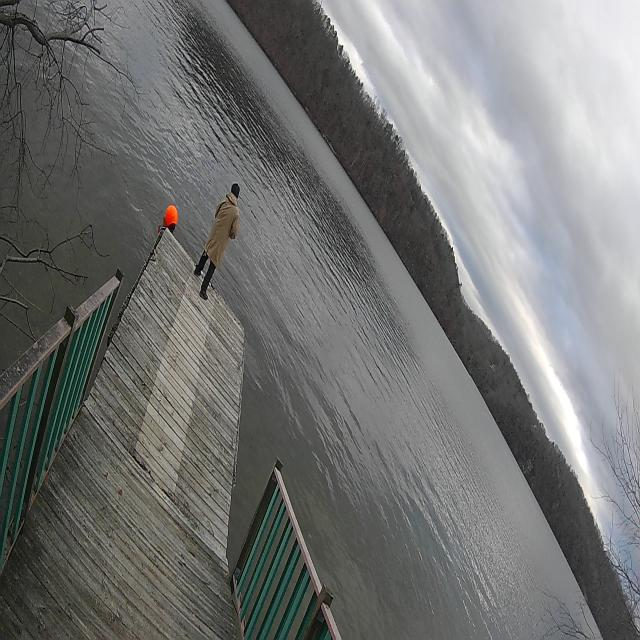Buoy: (164, 202, 180, 231)
